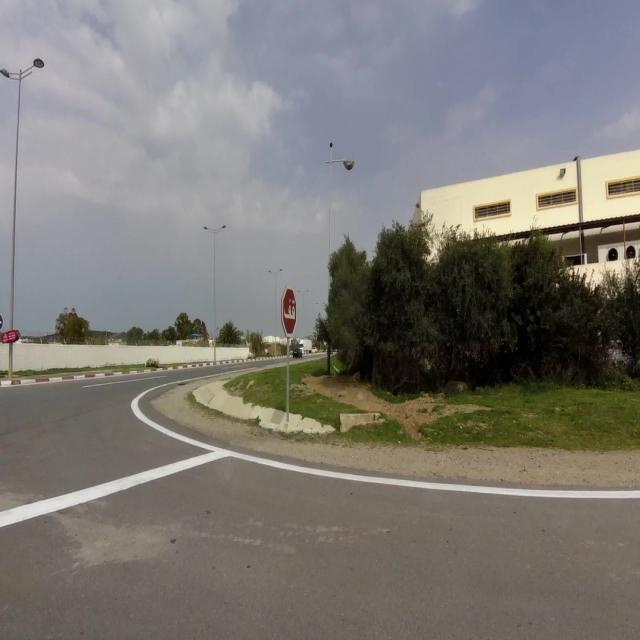car: (292, 344, 303, 358)
